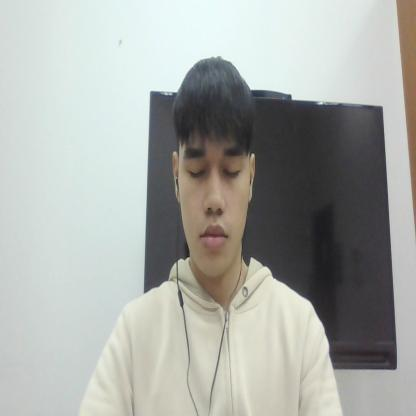Closed-Eyes: (181, 138, 249, 190)
